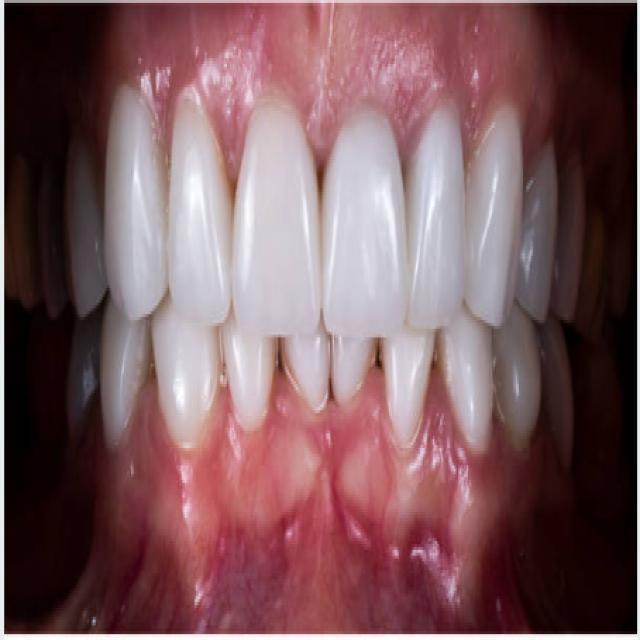Gingivitis: (208, 478, 481, 630)
